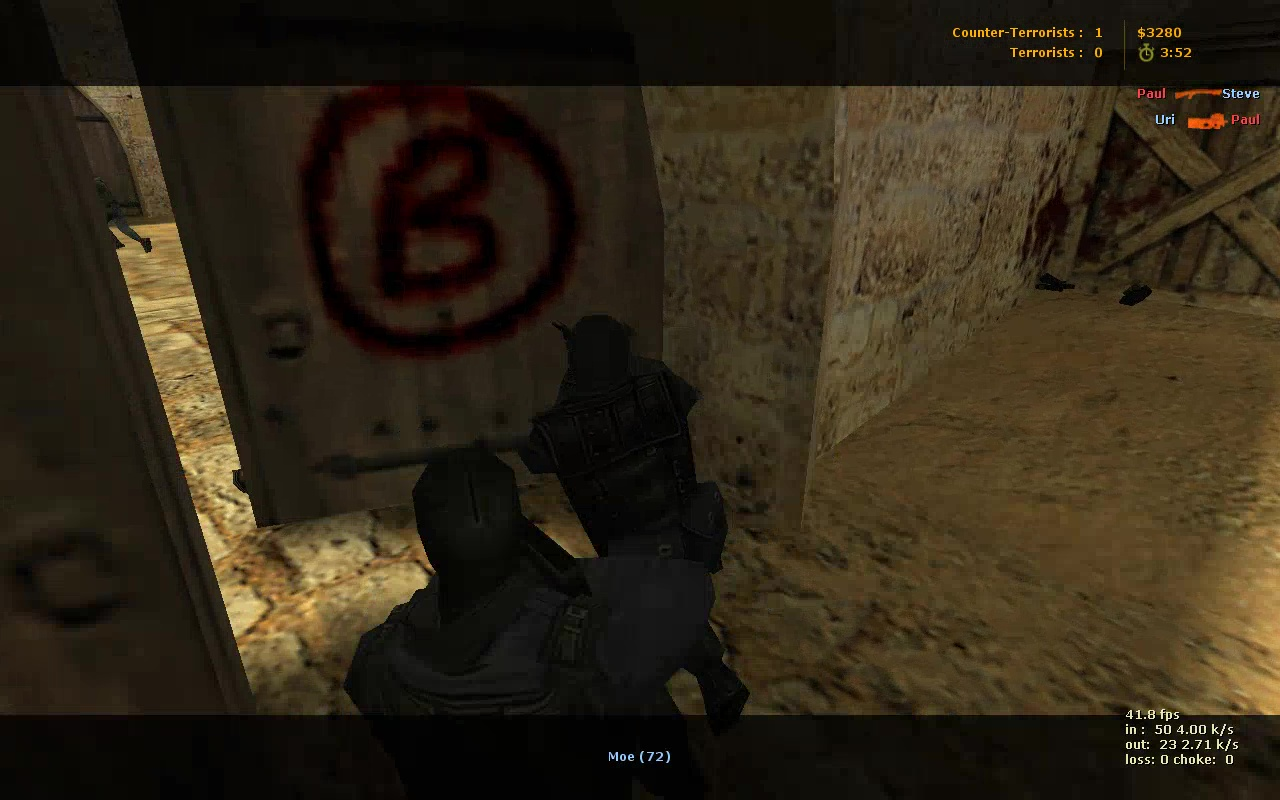ct: (518, 308, 756, 711)
